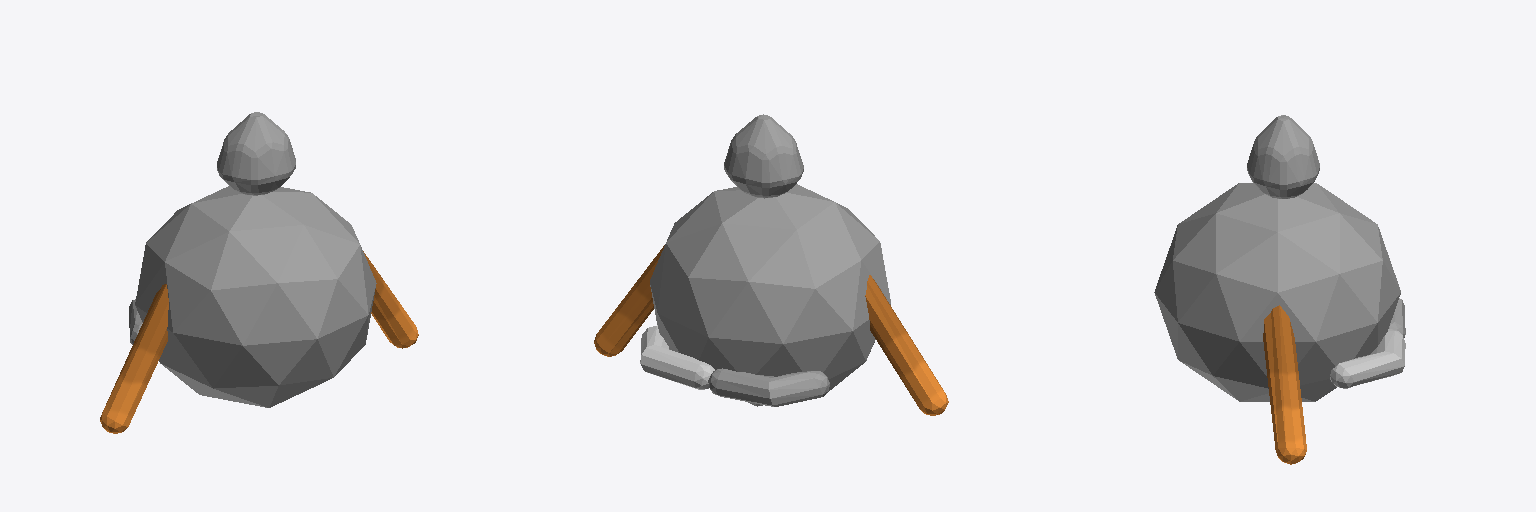
3 views of the same model, side by side, from view 1: azimuth 30°, elevation 25°; view 2: azimuth 150°, elevation 25°; view 3: azimuth 270°, elevation 25° (orthographic).
Visible parts, largest first — view 1: Icosphere.001_Icosphere.004, Cone, Icosphere.004_Icosphere.007, Icosphere.003_Icosphere.013; view 2: Icosphere.001_Icosphere.004, Cone, Icosphere.004_Icosphere.007, Icosphere_Icosphere.003, Icosphere.003_Icosphere.013, Icosphere.005_Icosphere.012; view 3: Icosphere.001_Icosphere.004, Icosphere.003_Icosphere.013, Cone, Icosphere.005_Icosphere.012.
Part boxes in pixels (x1,y1,x2,y2): Icosphere.001_Icosphere.004: (135, 186, 376, 407); Cone: (217, 112, 295, 195); Icosphere.004_Icosphere.007: (100, 284, 168, 433); Icosphere.003_Icosphere.013: (363, 251, 418, 348); Icosphere.001_Icosphere.004: (650, 184, 890, 406); Cone: (724, 114, 803, 198); Icosphere.004_Icosphere.007: (865, 275, 948, 415); Icosphere_Icosphere.003: (708, 368, 829, 406); Icosphere.003_Icosphere.013: (594, 245, 664, 356); Icosphere.005_Icosphere.012: (640, 325, 714, 389); Icosphere.001_Icosphere.004: (1154, 183, 1400, 401); Icosphere.003_Icosphere.013: (1263, 305, 1306, 464); Cone: (1247, 115, 1319, 198); Icosphere.005_Icosphere.012: (1330, 329, 1405, 388).
Bounding box in the file's own units: 2.04 × 1.64 × 1.34.
Materials: 6 (1 with a texture image).